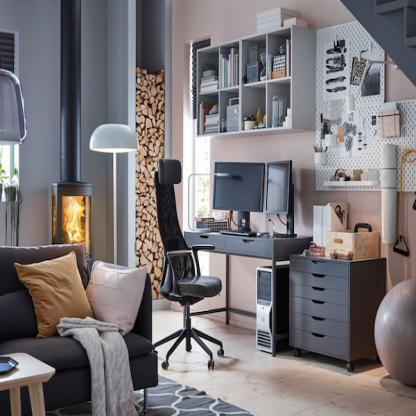chair: (152, 154, 233, 381)
light: (89, 119, 141, 264)
sofa: (0, 239, 159, 416)
table: (182, 219, 322, 349), (0, 347, 62, 416)
